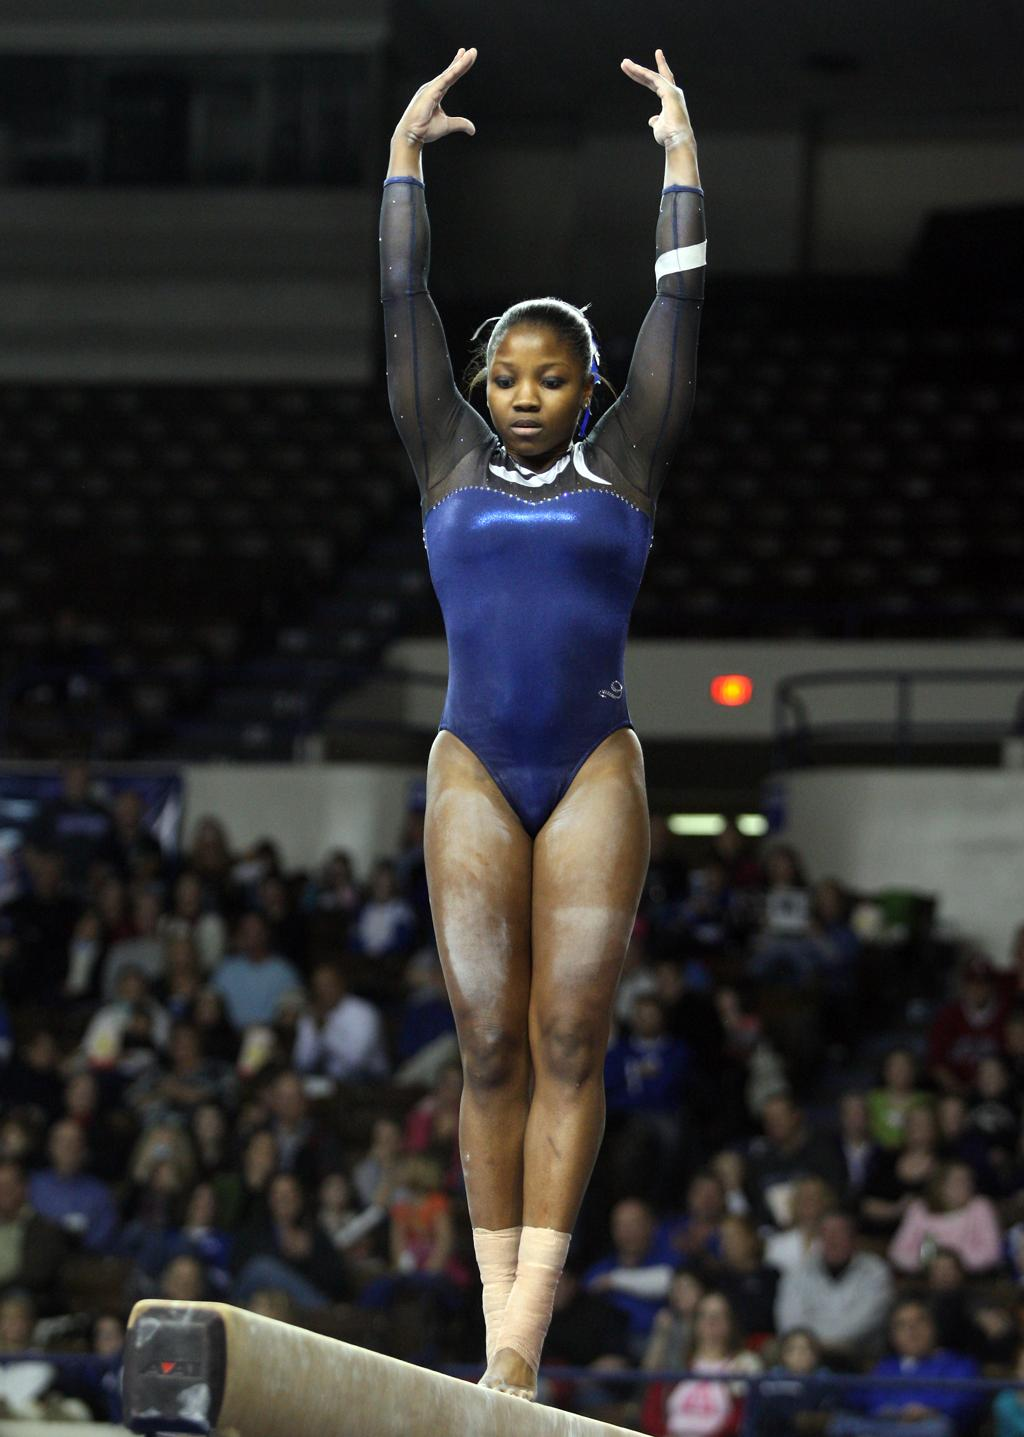face: (494, 320, 575, 443)
